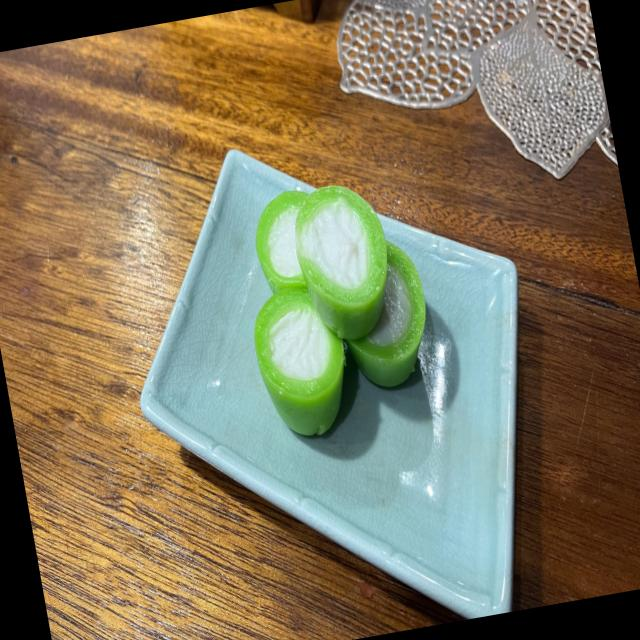nona-manis: (295, 185, 387, 340), (254, 287, 345, 435), (345, 241, 425, 387), (255, 189, 307, 292)
